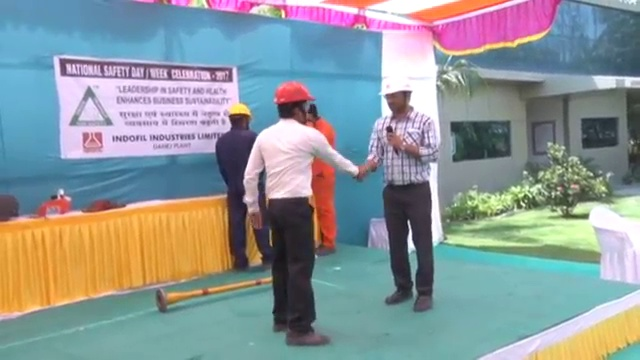helmet: (271, 80, 316, 104), (376, 73, 414, 96), (227, 102, 254, 120)
helmet_off: (302, 102, 322, 125)
helmet_on: (270, 78, 317, 127), (376, 72, 415, 121), (225, 100, 255, 133)
person: (241, 78, 363, 348), (363, 74, 443, 314), (215, 99, 276, 270), (305, 102, 337, 254)
